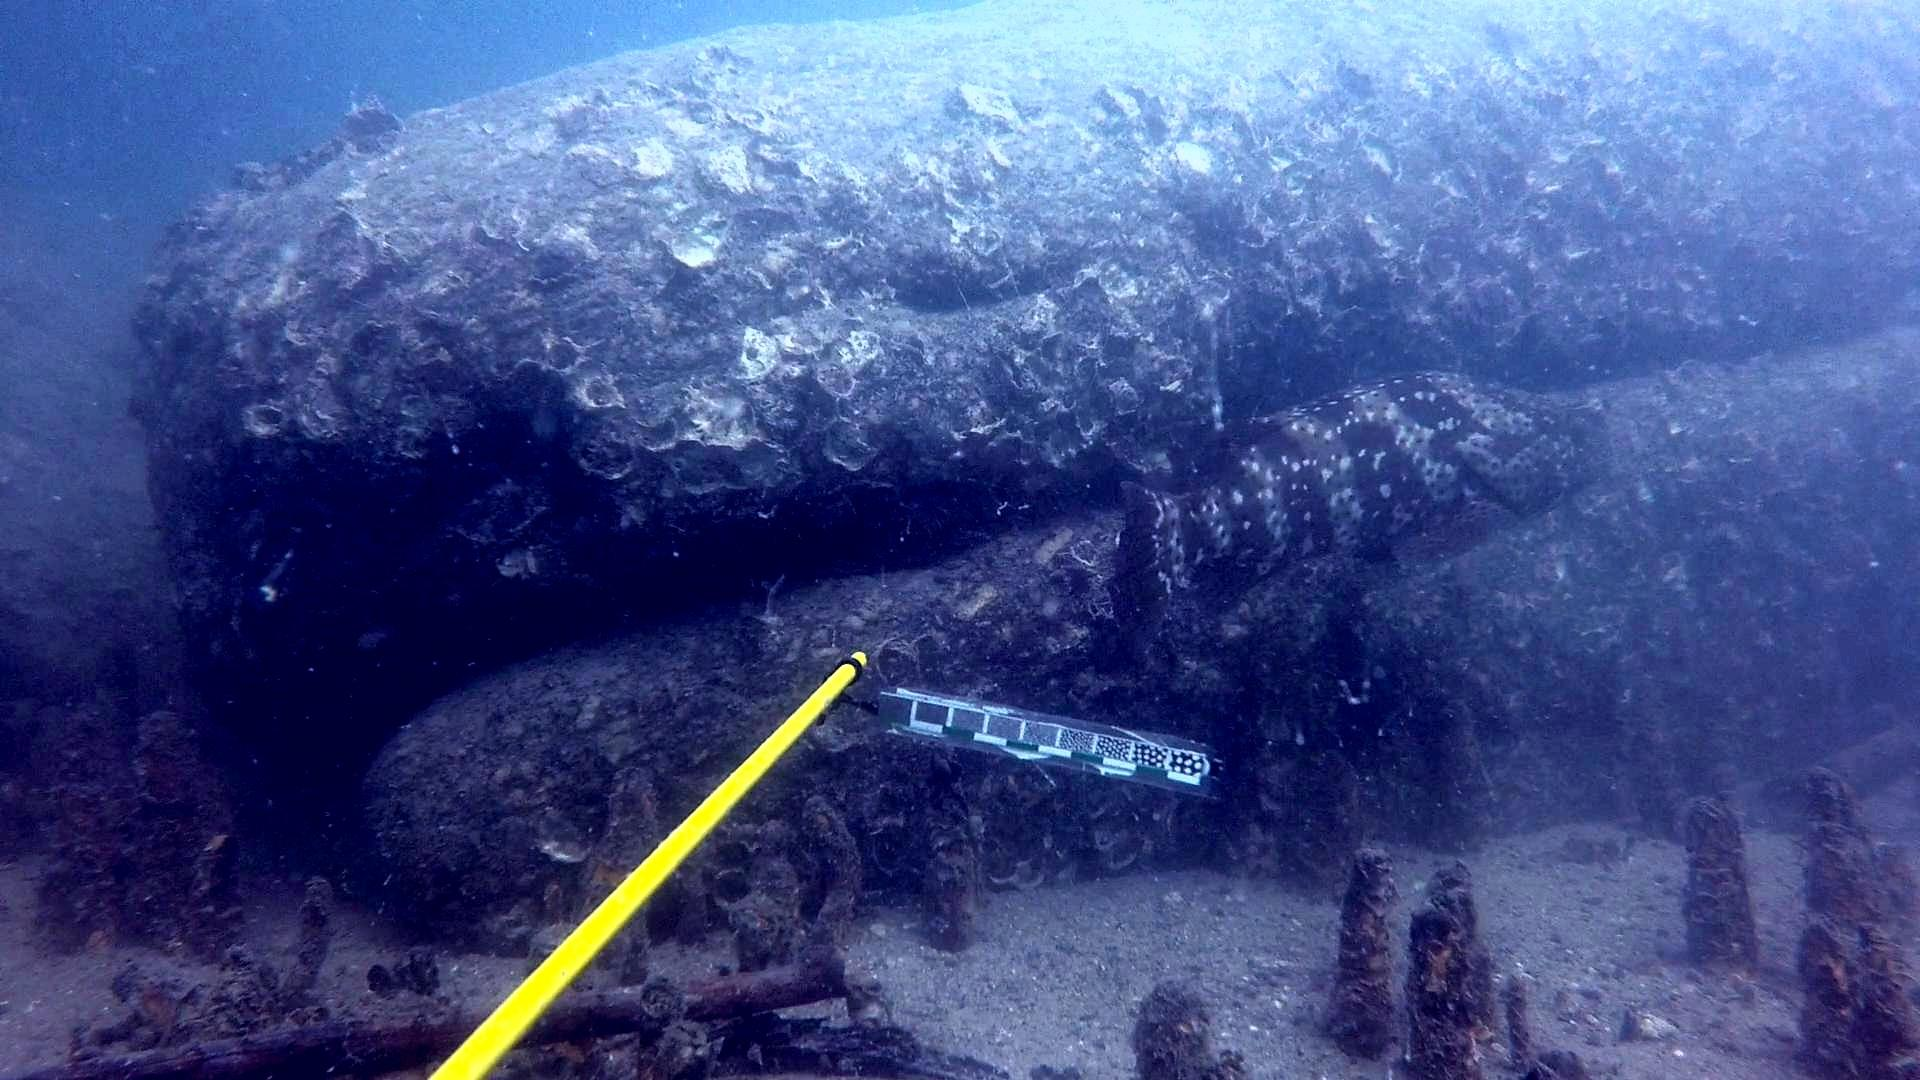epinephelus: (1104, 364, 1625, 645)
